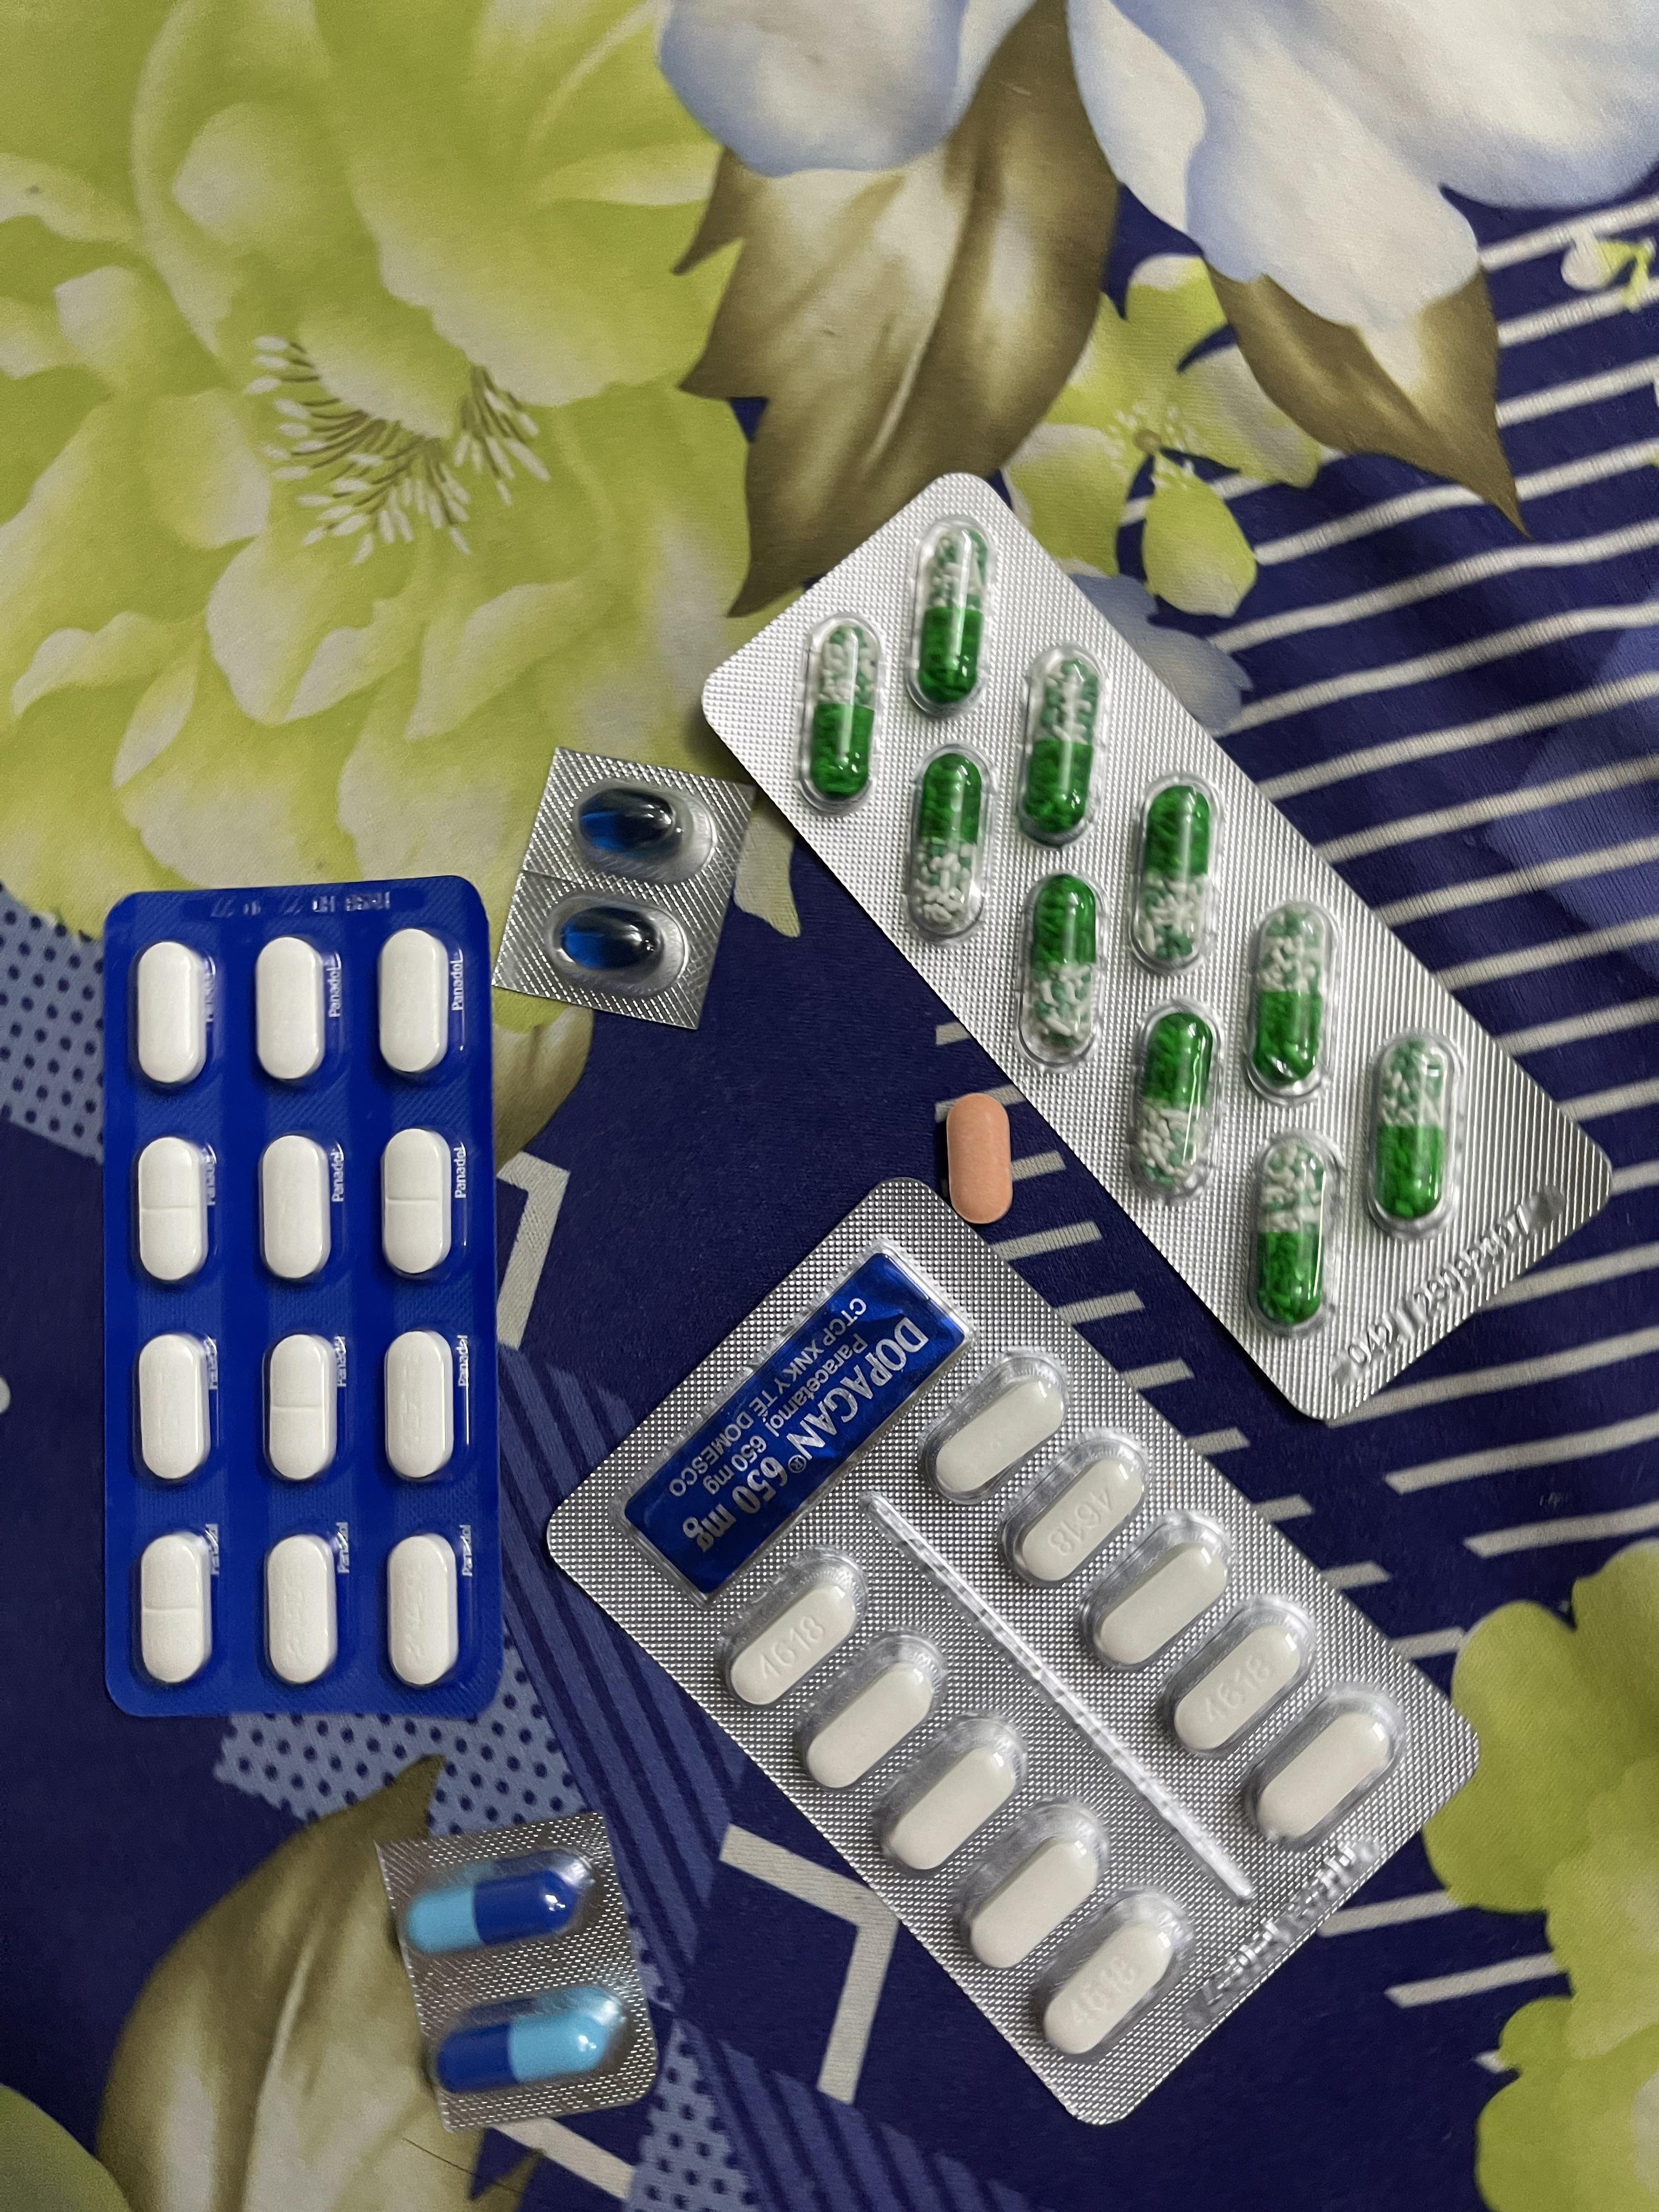Lincomyxin_500mg: (580, 791, 681, 853), (561, 907, 660, 968)
Loratadine_10mg: (945, 1094, 1012, 1224)
Paracetamol_350mg: (134, 1332, 211, 1484), (265, 1332, 340, 1486), (139, 1533, 213, 1688), (387, 1533, 460, 1688), (382, 1127, 457, 1277), (265, 1533, 338, 1686), (134, 1136, 209, 1284), (383, 1331, 457, 1482), (260, 1134, 333, 1282), (134, 941, 207, 1087), (254, 937, 328, 1080), (378, 930, 450, 1071)
Paracetamol_500mg: (1161, 1595, 1317, 1752), (873, 1710, 1026, 1871), (999, 1433, 1147, 1583), (727, 1552, 870, 1702), (958, 1827, 1101, 1966), (1253, 1705, 1392, 1846), (802, 1651, 939, 1792), (1042, 1919, 1175, 2055), (1093, 1534, 1225, 1667), (931, 1371, 1061, 1494)
Paracetamol_650mg: (1366, 1036, 1460, 1233), (1249, 1132, 1344, 1329), (906, 519, 995, 718), (1016, 650, 1107, 838), (1244, 909, 1331, 1090), (1018, 880, 1105, 1055), (1133, 1008, 1213, 1191), (910, 756, 986, 923), (1136, 786, 1208, 956), (809, 627, 877, 796)
pill: (436, 1984, 627, 2092), (404, 1857, 591, 1954)
